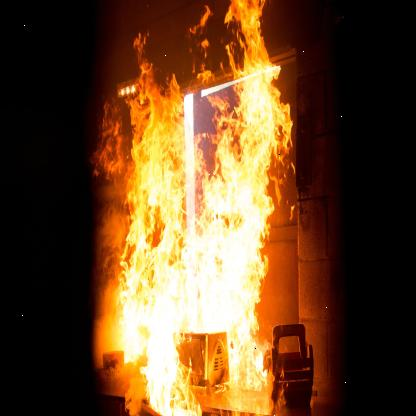fire: (109, 1, 290, 416)
